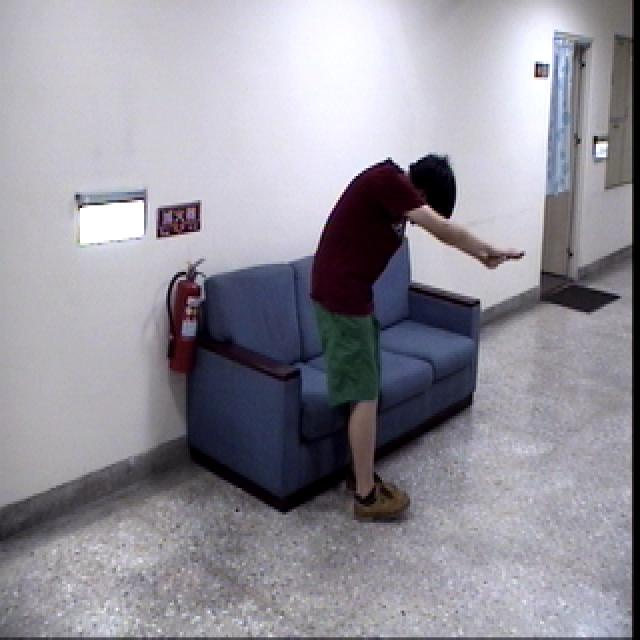bend: (301, 152, 530, 529)
